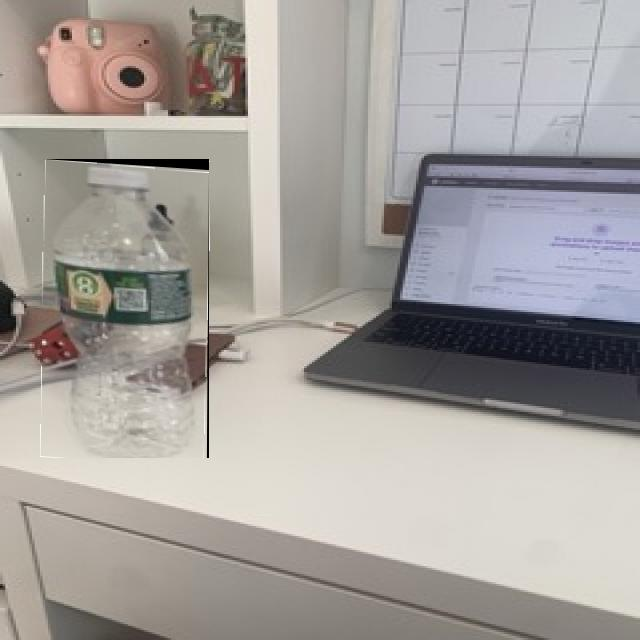water_bottle: (42, 159, 209, 458)
